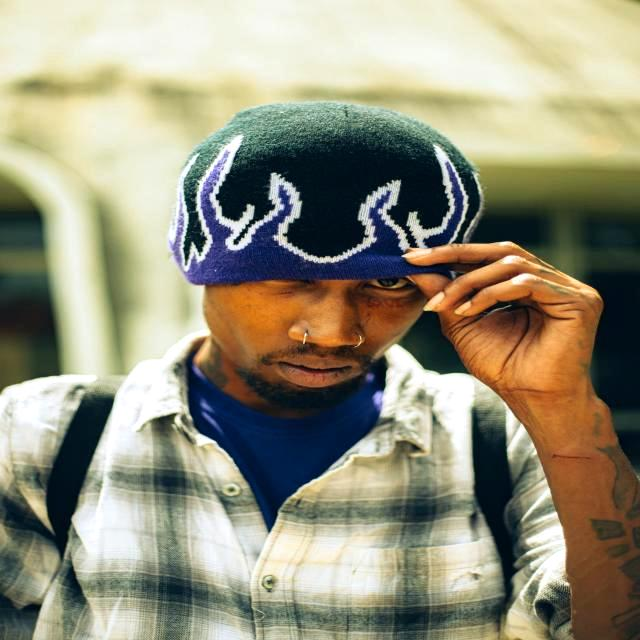no_hard_hat: (168, 102, 482, 285)
person: (0, 105, 639, 639)
